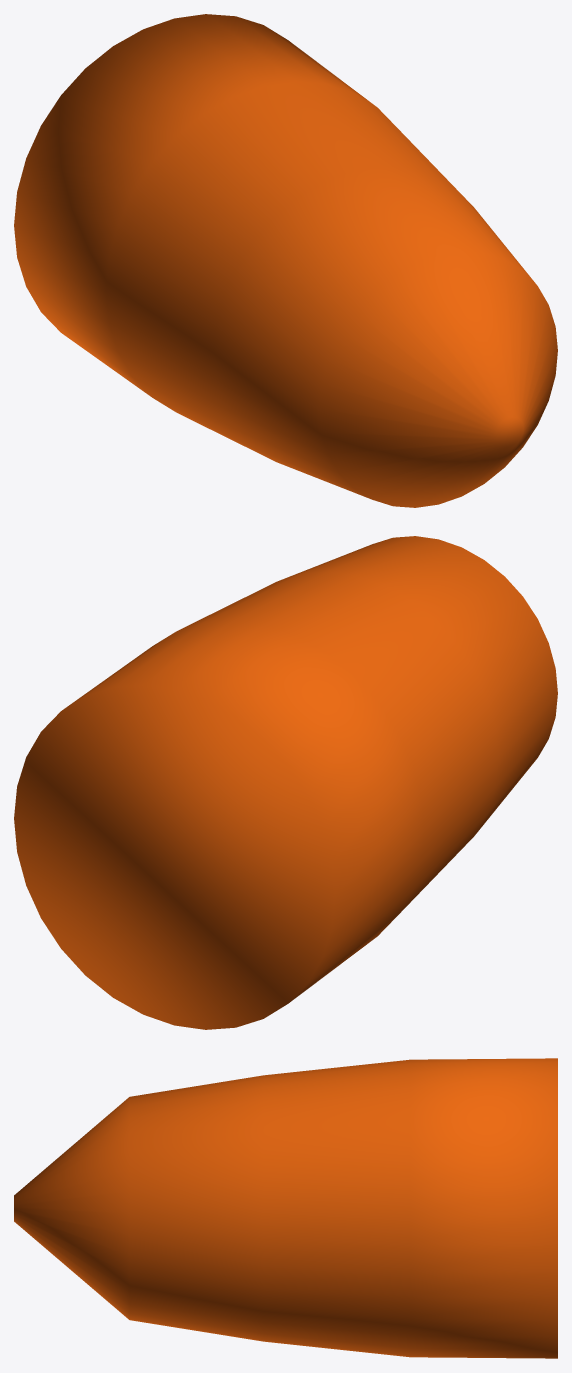
Rendered from HumanTypeShotGunMan_ballchild.glb.
3 views of the same model, one above another, from view 1: azimuth 30°, elevation 25°; view 2: azimuth 150°, elevation 25°; view 3: azimuth 270°, elevation 25° (orthographic). The views are drawn at different scales.
Visible parts, largest first — view 1: tandoShot; view 2: tandoShot; view 3: tandoShot.
Boxes of the visible parts, x1,y1,x2,y2 form: tandoShot: [14, 14, 557, 507]; tandoShot: [14, 536, 557, 1029]; tandoShot: [14, 1058, 557, 1358].
Bounding box in the file's own units: 0.4087 × 0.4087 × 0.7398.
